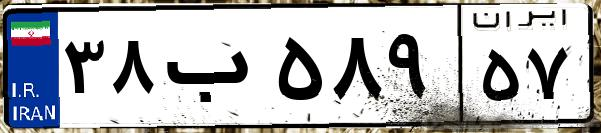3: (57, 26, 110, 100)
5: (270, 28, 330, 110), (475, 38, 525, 113)
7: (525, 38, 570, 115)
8: (330, 28, 385, 110), (110, 28, 158, 98)
9: (385, 28, 445, 110)
ب: (158, 20, 270, 120)
